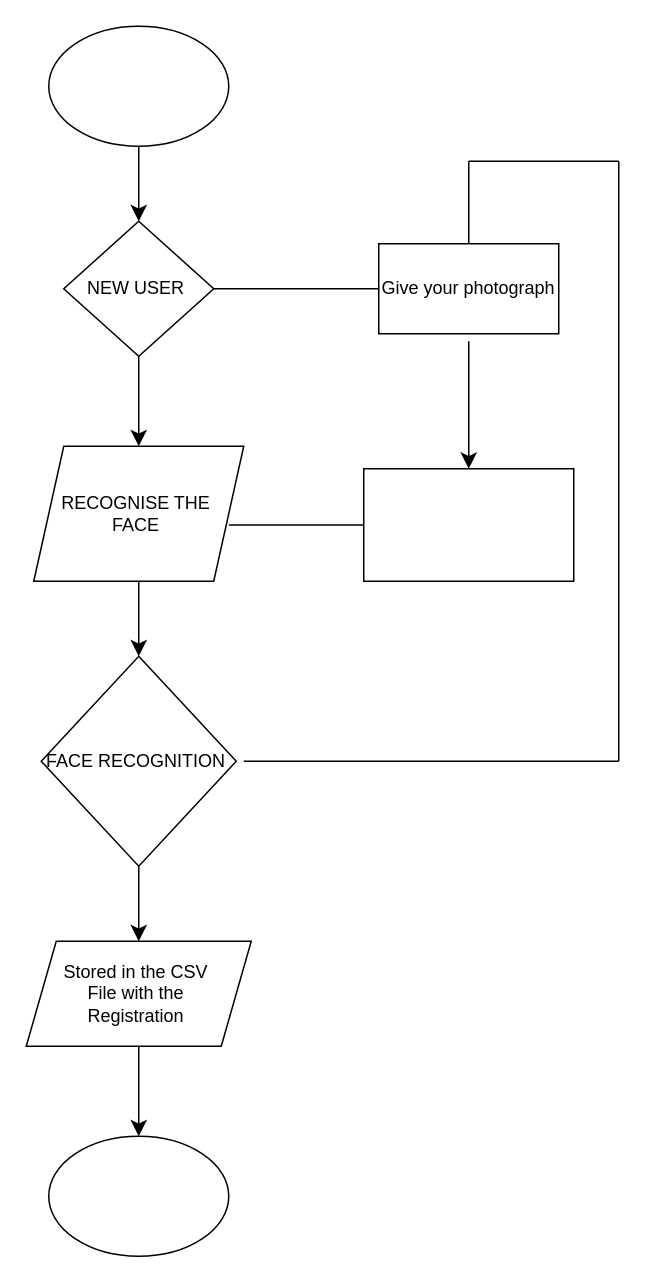
Image size: 647x1283. Some labels were removed from this diagram. Each missing label, with the box of its shape:
END: (47, 1135, 229, 1256)
Start: (47, 25, 229, 146)
Store the face in the data in the folder on your name: (362, 467, 574, 581)
